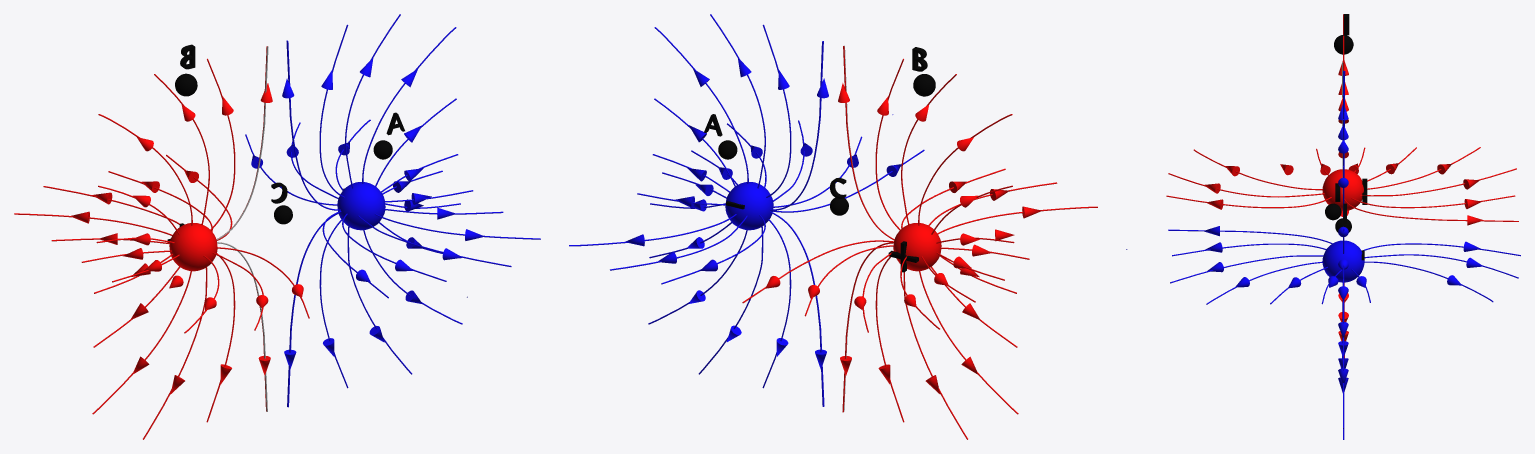
File: mgnatism-f.fbx
3 views of the same model, side by side, from view 1: azimuth 30°, elevation 25°; view 2: azimuth 150°, elevation 25°; view 3: azimuth 270°, elevation 25° (orthographic). The views are drawn at different scales.
Visible parts, largest first — view 1: pSphere3_1, pasted__pSphere3, pSphere3; view 2: pSphere3_1, pSphere3, pasted__pSphere3; view 3: pasted__pSphere3, pSphere3_1, pSphere3.
Part boxes in pixels (left/top/right/bottom): pSphere3_1: left=169, top=223, right=217, bottom=271; pasted__pSphere3: left=337, top=182, right=385, bottom=230; pSphere3: left=337, top=182, right=385, bottom=227; pSphere3_1: left=893, top=223, right=941, bottom=271; pSphere3: left=725, top=182, right=773, bottom=229; pasted__pSphere3: left=725, top=182, right=773, bottom=230; pasted__pSphere3: left=1322, top=240, right=1364, bottom=282; pSphere3_1: left=1322, top=169, right=1363, bottom=211; pSphere3: left=1323, top=240, right=1362, bottom=282.
Size of the model in its own units: 17.63 by 17.4 by 18.71.
